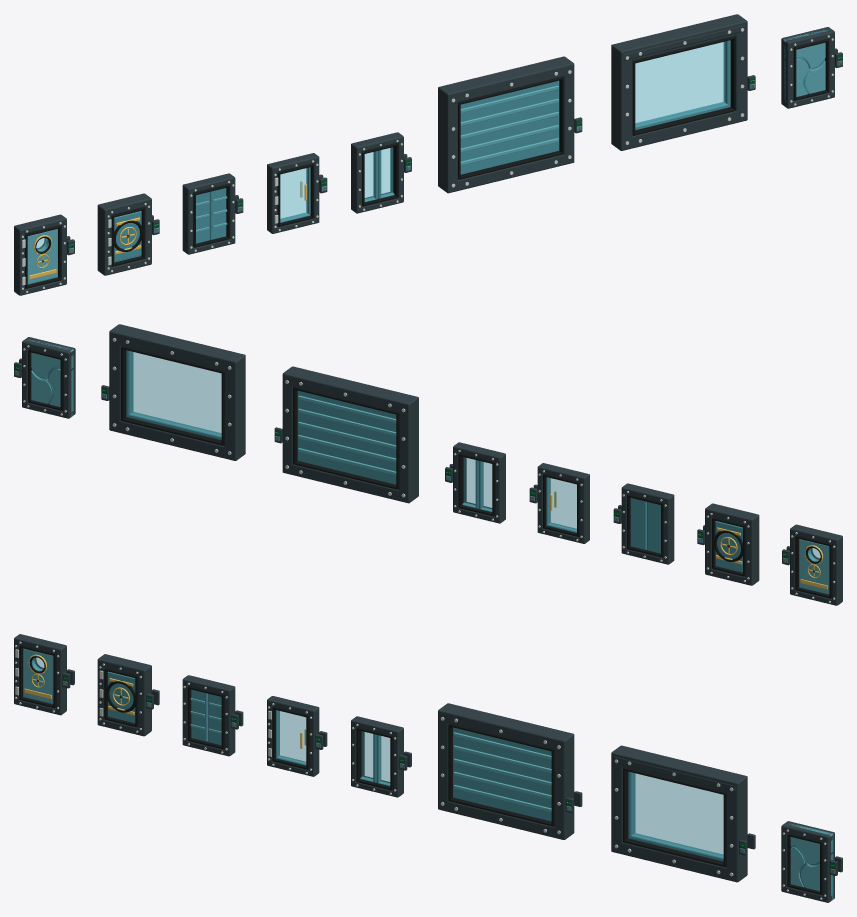
File: submarine_postapo_futuristic_doors_pack.glb
3 renders of one model, top to bottom at view 1: azimuth 30°, elevation 25°; view 2: azimuth 150°, elevation 25°; view 3: azimuth 330°, elevation 25°, orthographic.
Visible parts, largest first — view 1: GLASS_HANGAR_Transparent_Main_Glass_4x3m, HANGAR_Wide_Vertical_Lift_Panel_4x3m, HANGAR_Frame_Top, GLASS_HANGAR_Frame_Left, HANGAR_Frame_Left, GLASS_HANGAR_Frame_Top, GLASS_HANGAR_Frame_Bottom_Threshold, HANGAR_Frame_Bottom_Threshold, GLASS_DOOR_Reinforced_Glass_Insert, STD_HATCH_Front_Raised_Plate, GLASS_HANGAR_Frame_Right, HANGAR_Frame_Right (+17 smaller); view 2: GLASS_HANGAR_Transparent_Main_Glass_4x3m, HANGAR_Wide_Vertical_Lift_Panel_4x3m, GLASS_HANGAR_Frame_Top, HANGAR_Frame_Top, HANGAR_Frame_Left, GLASS_HANGAR_Frame_Left, GLASS_HANGAR_Frame_Bottom_Threshold, HANGAR_Frame_Bottom_Threshold, GLASS_DOOR_Reinforced_Glass_Insert, GLASS_HANGAR_Frame_Right, STD_HATCH_Back_Raised_Plate, HANGAR_Frame_Right (+15 smaller); view 3: GLASS_HANGAR_Transparent_Main_Glass_4x3m, HANGAR_Wide_Vertical_Lift_Panel_4x3m, HANGAR_Frame_Top, HANGAR_Frame_Right, GLASS_HANGAR_Frame_Right, GLASS_HANGAR_Frame_Top, GLASS_HANGAR_Frame_Bottom_Threshold, HANGAR_Frame_Bottom_Threshold, GLASS_DOOR_Reinforced_Glass_Insert, STD_HATCH_Front_Raised_Plate, GLASS_HANGAR_Frame_Left, HANGAR_Frame_Left (+17 smaller).
Part boxes in pixels (x1,y1,x2,y2): GLASS_HANGAR_Transparent_Main_Glass_4x3m: (635,42,725,124); HANGAR_Wide_Vertical_Lift_Panel_4x3m: (460,80,559,174); HANGAR_Frame_Top: (438,58,574,103); GLASS_HANGAR_Frame_Left: (611,42,632,149); HANGAR_Frame_Left: (438,85,457,192); GLASS_HANGAR_Frame_Top: (611,14,747,62); GLASS_HANGAR_Frame_Bottom_Threshold: (611,109,747,150); HANGAR_Frame_Bottom_Threshold: (438,153,574,193); GLASS_DOOR_Reinforced_Glass_Insert: (280,168,307,219); STD_HATCH_Front_Raised_Plate: (27,229,57,284); GLASS_HANGAR_Frame_Right: (728,14,747,122); HANGAR_Frame_Right: (555,56,574,164); GLASS_HANGAR_Transparent_Main_Glass_4x3m: (131,352,221,434); HANGAR_Wide_Vertical_Lift_Panel_4x3m: (297,390,396,484); GLASS_HANGAR_Frame_Top: (109,324,245,372); HANGAR_Frame_Top: (282,368,418,414); HANGAR_Frame_Left: (399,395,418,502); GLASS_HANGAR_Frame_Left: (224,352,245,453); GLASS_HANGAR_Frame_Bottom_Threshold: (109,419,245,460); HANGAR_Frame_Bottom_Threshold: (282,463,418,503); GLASS_DOOR_Reinforced_Glass_Insert: (549,478,576,529); GLASS_HANGAR_Frame_Right: (109,324,128,431); STD_HATCH_Back_Raised_Plate: (799,539,829,594); HANGAR_Frame_Right: (282,366,301,474); GLASS_HANGAR_Transparent_Main_Glass_4x3m: (633,773,723,855); HANGAR_Wide_Vertical_Lift_Panel_4x3m: (453,727,551,821); HANGAR_Frame_Top: (438,705,573,749); HANGAR_Frame_Right: (554,731,574,839); GLASS_HANGAR_Frame_Right: (726,773,747,882); GLASS_HANGAR_Frame_Top: (611,748,747,794); GLASS_HANGAR_Frame_Bottom_Threshold: (611,841,747,882); HANGAR_Frame_Bottom_Threshold: (438,800,574,839); GLASS_DOOR_Reinforced_Glass_Insert: (278,711,306,762); STD_HATCH_Front_Raised_Plate: (23,648,53,703); GLASS_HANGAR_Frame_Left: (611,745,630,851); HANGAR_Frame_Left: (438,703,456,809).
Bounding box in the file's own units: 25.89 × 3 × 0.62.
